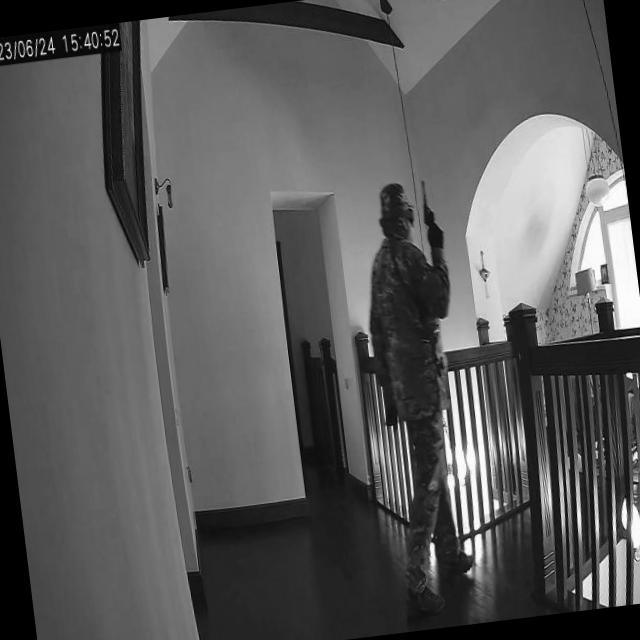gun: (418, 178, 438, 234)
person with a gun: (359, 170, 492, 618)
